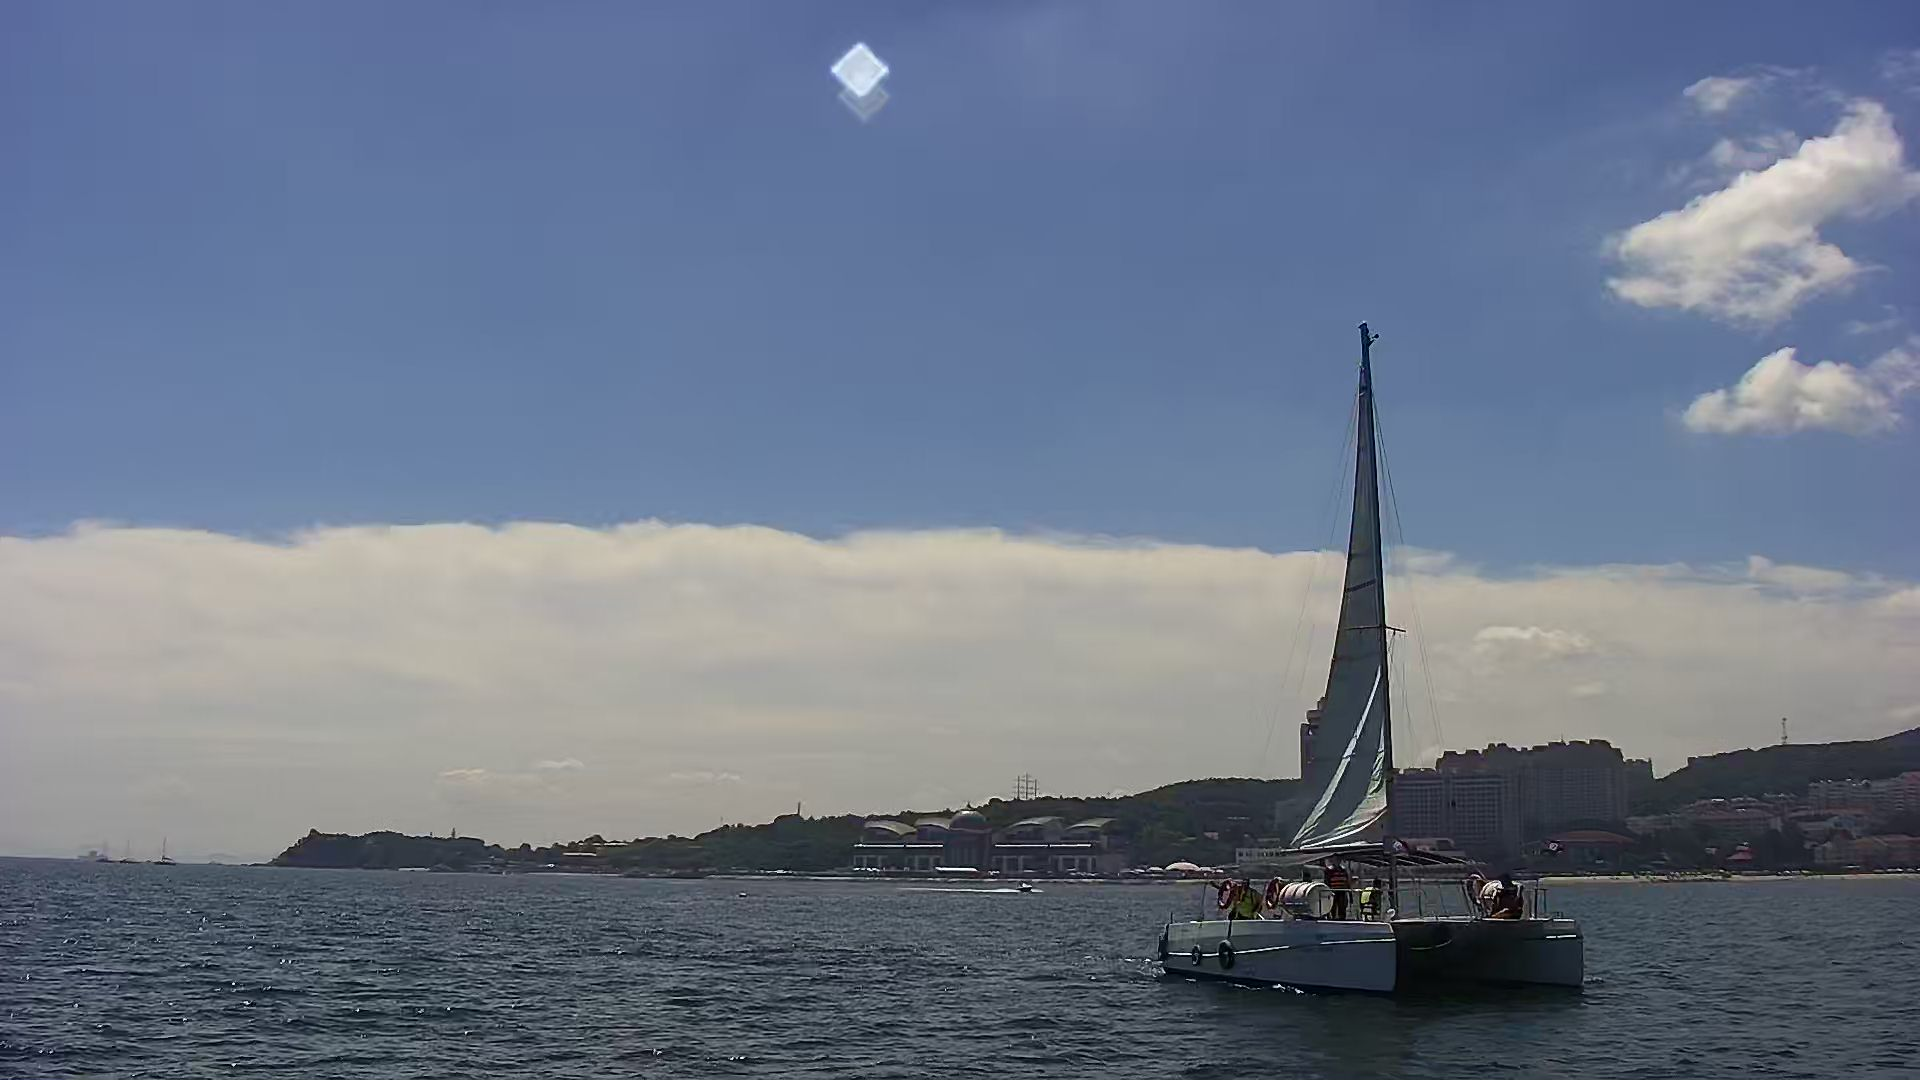boat: (1149, 326, 1590, 1018)
